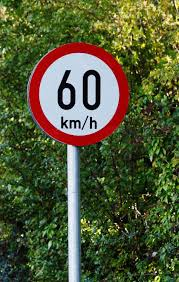Speed_limit_60km: (28, 41, 129, 144)
